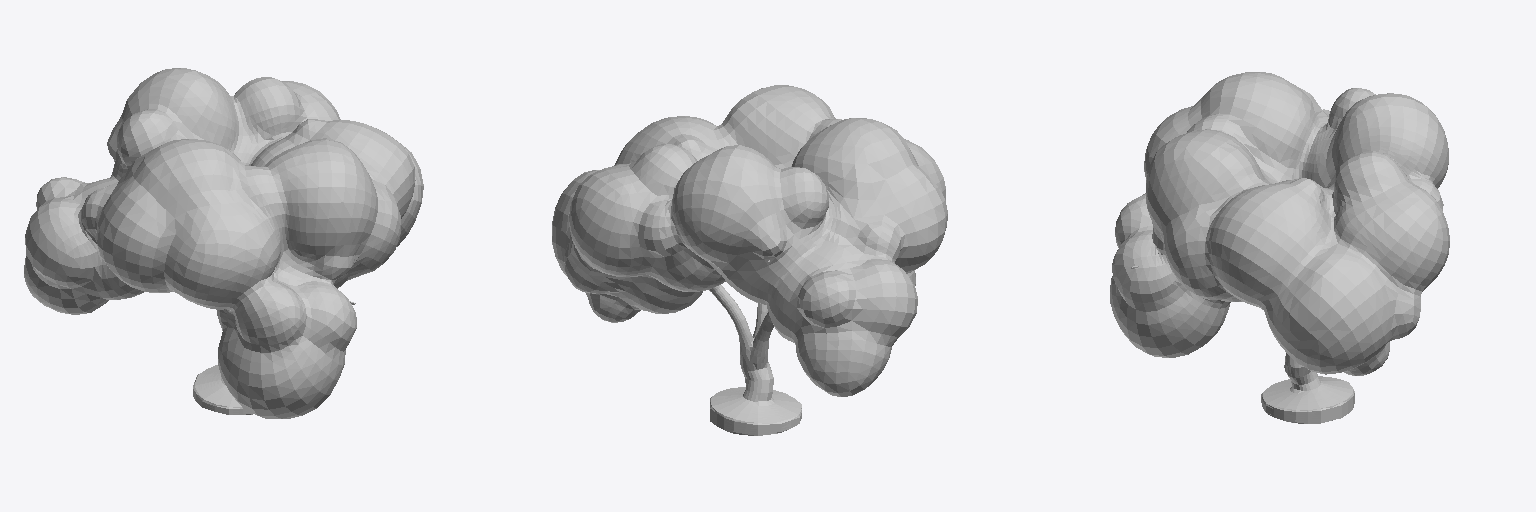
File: tree_10.obj
3 renders of one model, left to right at view 1: azimuth 30°, elevation 25°; view 2: azimuth 150°, elevation 25°; view 3: azimuth 270°, elevation 25°, orthographic.
Parts seen in each view (by area): view 1: leaves_3, trunk_3; view 2: leaves_3, trunk_3; view 3: leaves_3, trunk_3.
Part boxes in pixels (left/top/right/bottom): leaves_3: left=24, top=68, right=423, bottom=418; trunk_3: left=193, top=301, right=355, bottom=414; leaves_3: left=552, top=85, right=947, bottom=396; trunk_3: left=709, top=260, right=801, bottom=435; leaves_3: left=1110, top=72, right=1449, bottom=375; trunk_3: left=1131, top=201, right=1354, bottom=423.
Size of the model in its own units: 5.43 by 4.22 by 4.34.